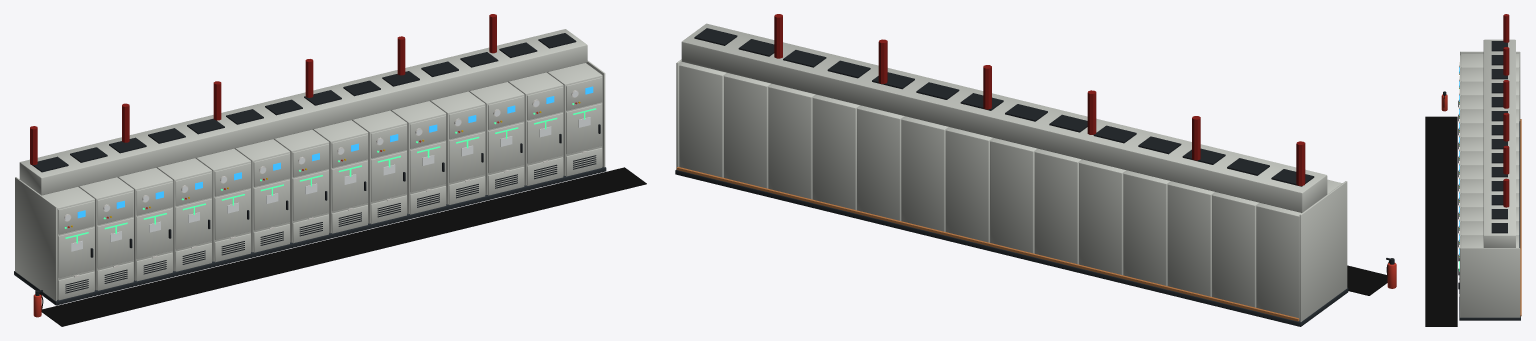
File: swb.glb
3 views of the same model, side by side, from view 1: azimuth 30°, elevation 25°; view 2: azimuth 150°, elevation 25°; view 3: azimuth 270°, elevation 25° (orthographic). The views are drawn at different scales.
Parts seen in each view (by area): view 1: swb; view 2: swb; view 3: swb.
Part boxes in pixels (x1,y1,x2,y2): swb: (14,14,646,326); swb: (675,14,1396,326); swb: (1425,14,1521,326).
Bounding box in the file's own units: 15.66 × 3.8 × 2.97.
